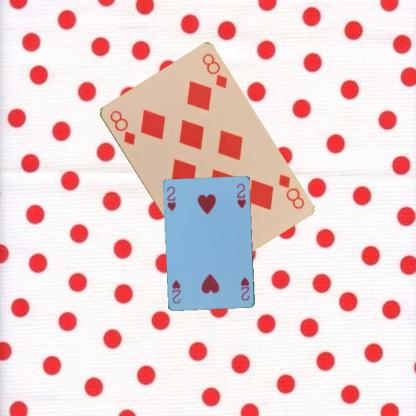2h: (164, 184, 177, 212), (238, 275, 251, 302)
8d: (275, 171, 306, 210), (107, 107, 136, 147)
